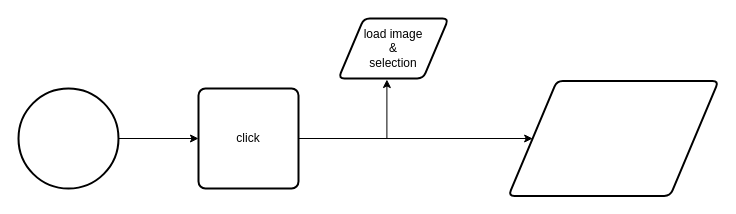
The diagram is 736 pixels wide and 214 high, and some of its shapes have lost their labels. Here are the shapes that lost their labels. From the top down, the box of each, then its label:
(17, 87, 119, 189): undo
(507, 80, 719, 196): don't allow to draw, sets the selection to null and restart the image state
